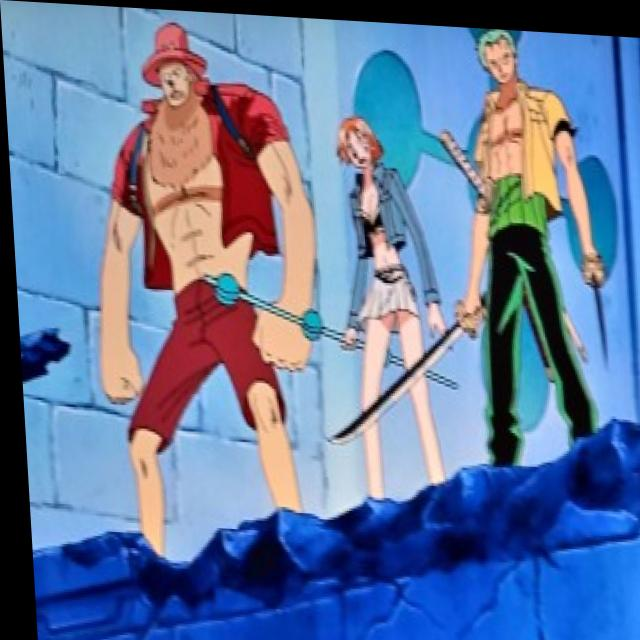Chyopa: (128, 17, 216, 120)
Nami: (325, 92, 394, 181)
Zoro: (471, 22, 527, 87)
